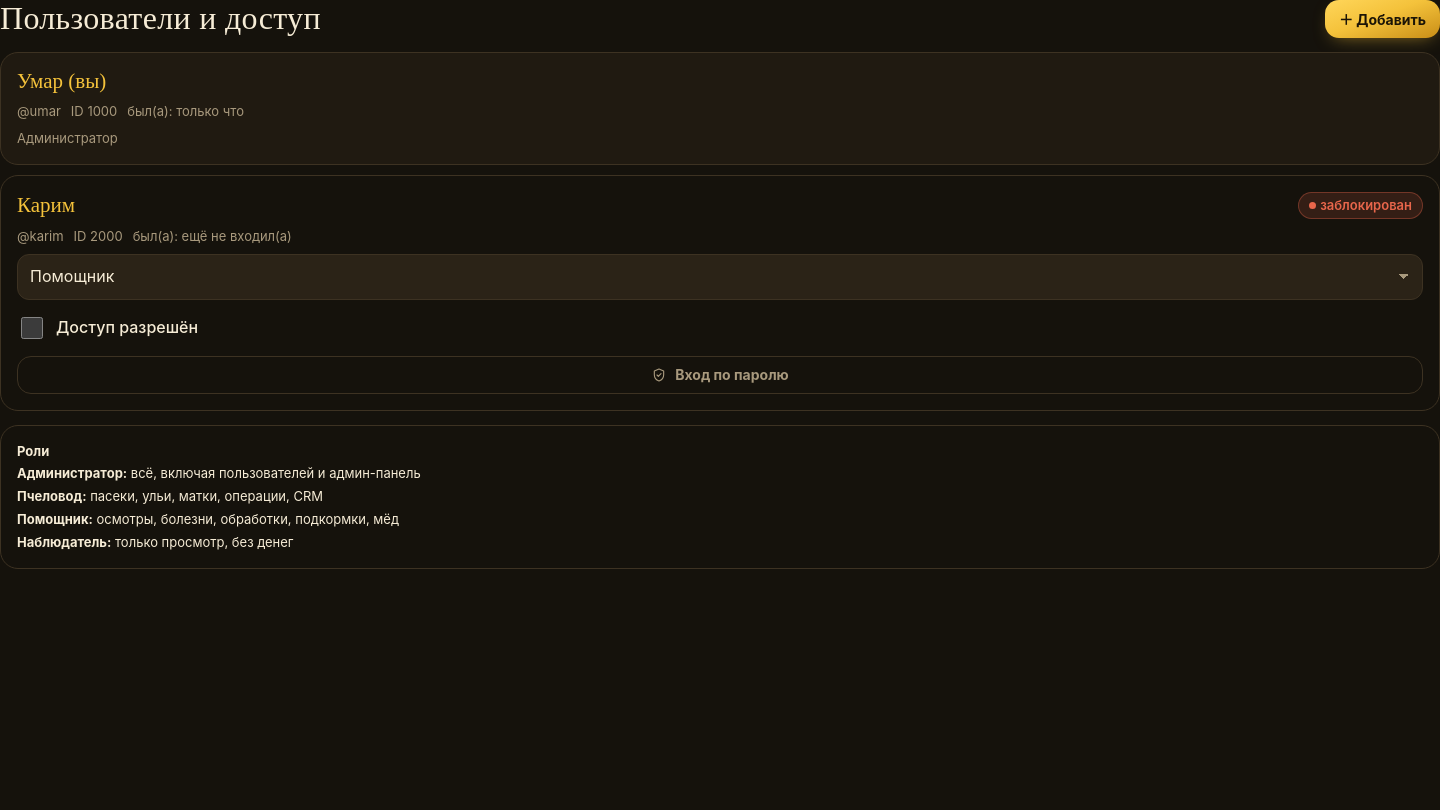
Test: Users and access › by Telegram ID keeps digits only; an existing user gets the role at once
Click the button "＋ Добавить" at coordinates (1382, 19), box [1325,0,1439,38]
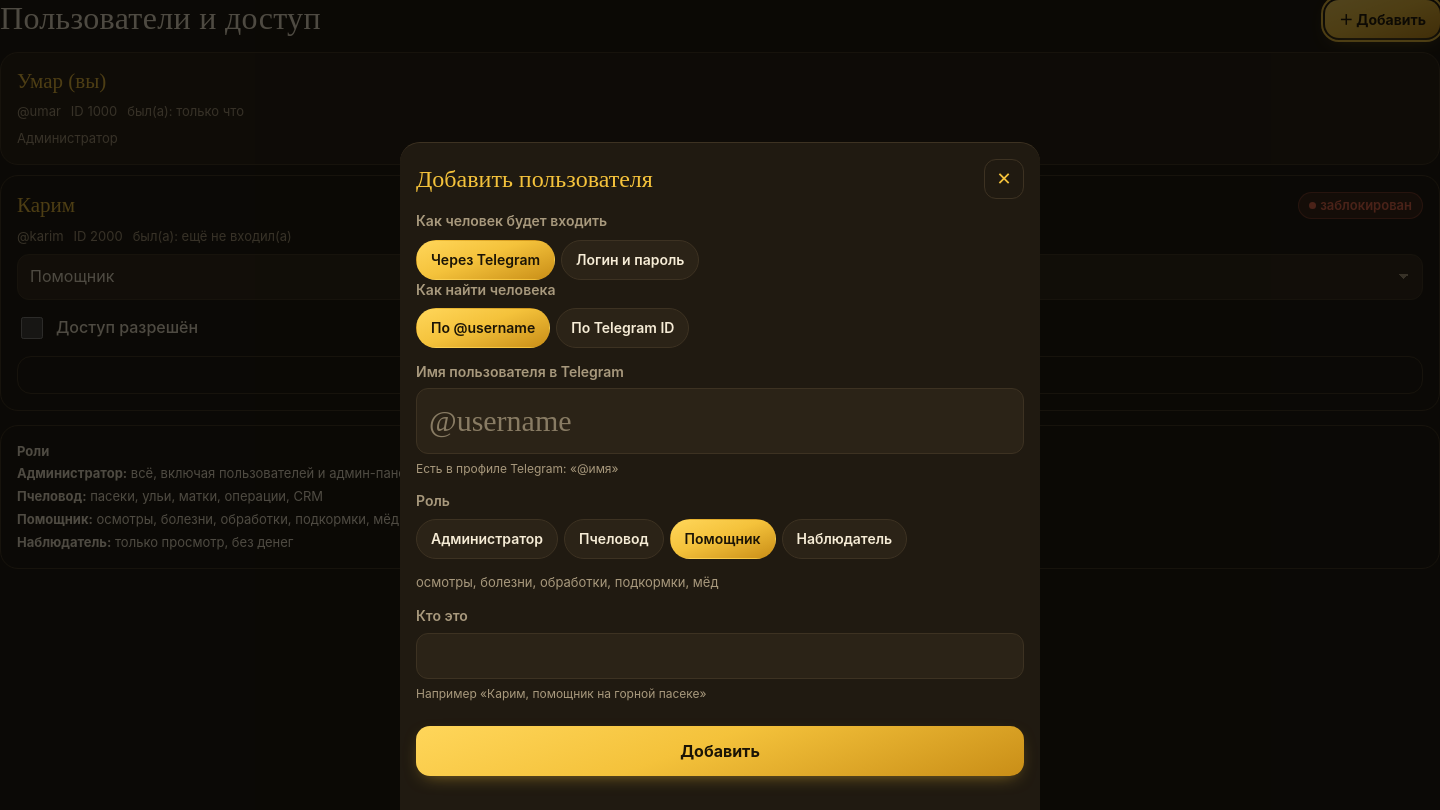
Click the radio button labelled "По Telegram ID" at coordinates (623, 328), box [556,308,689,348]
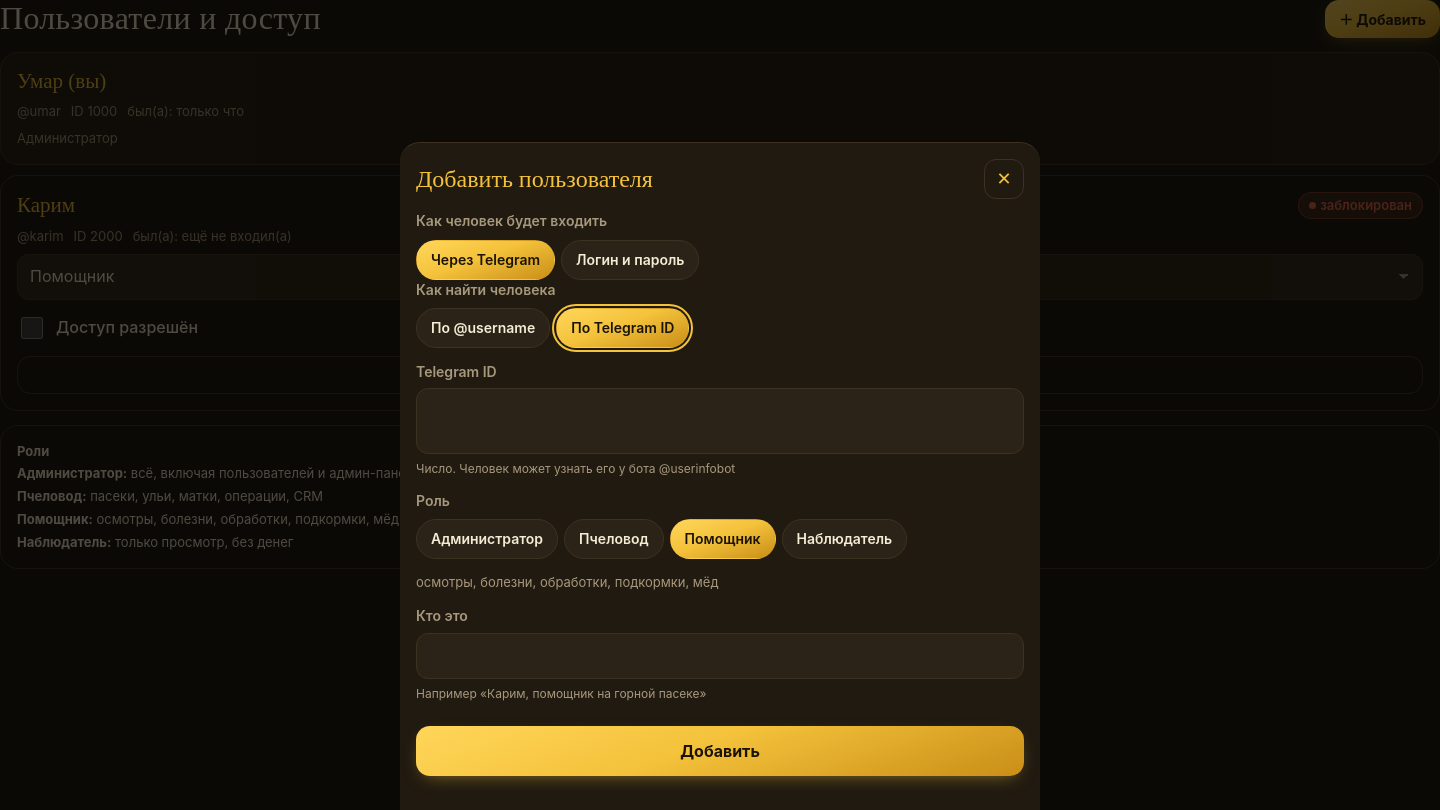
Type "20a00" into the field labelled "Telegram ID" at coordinates (720, 421), box [416,388,1024,454]
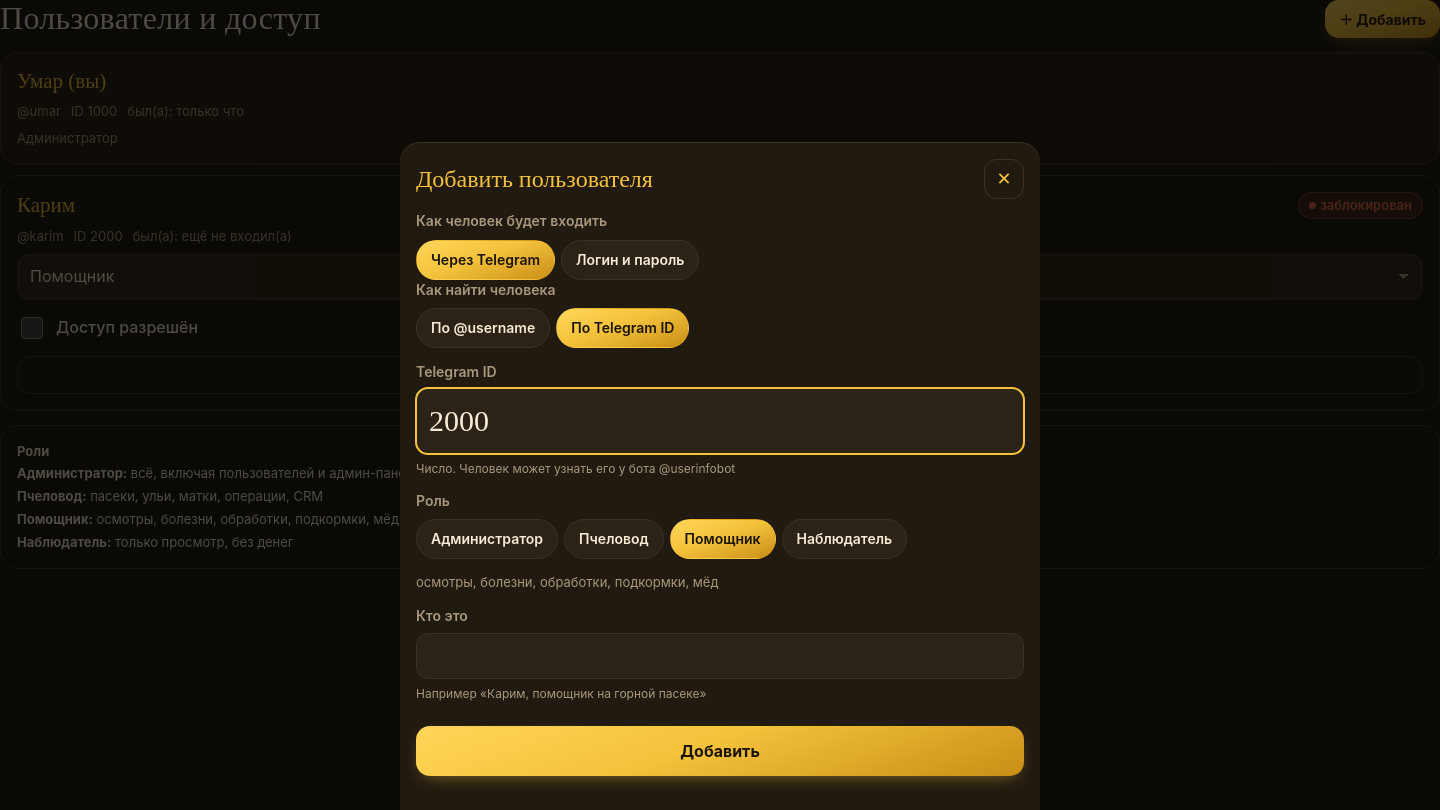
Click the button "Добавить" at coordinates (720, 751), box [416,726,1024,776]
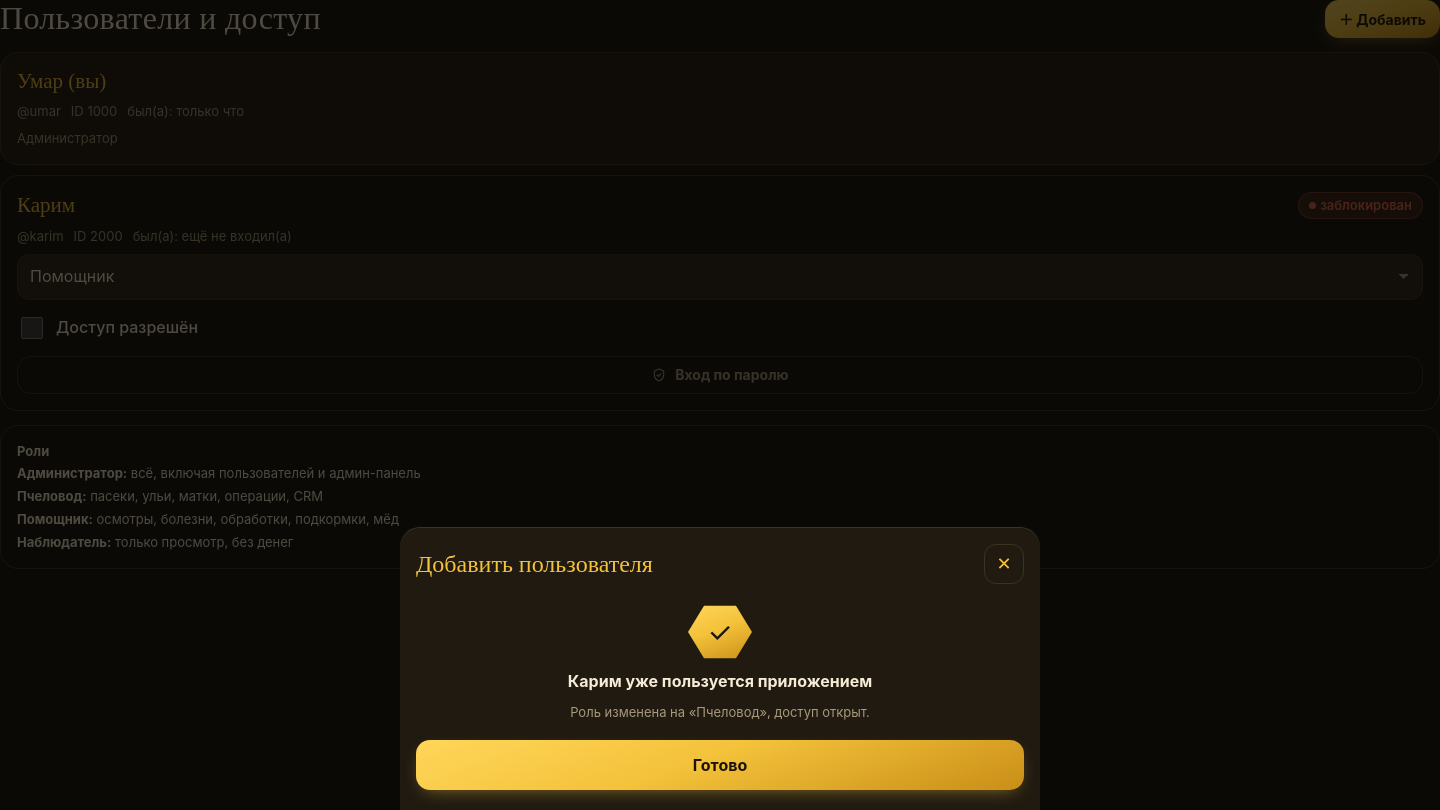
Expected: the text "Карим уже пользуется приложением" is shown, [568,670,872,693]
